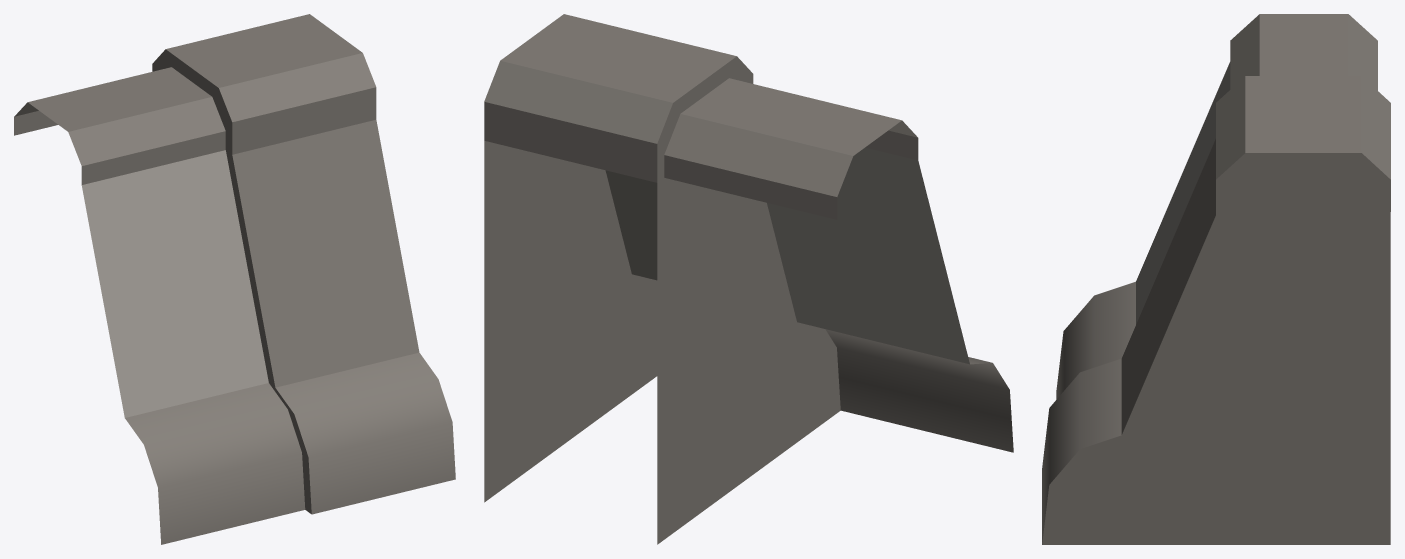
The model's file is Base Wall 01 End.FBX.
The picture shows the model from 3 angles, left to right: view 1: azimuth 30°, elevation 25°; view 2: azimuth 150°, elevation 25°; view 3: azimuth 270°, elevation 25°; orthographic projection. The views are drawn at different scales.
Visible parts, largest first — view 1: Base Wall 01 End; view 2: Base Wall 01 End; view 3: Base Wall 01 End.
Part boxes in pixels (left/top/right/bottom): Base Wall 01 End: left=14, top=14, right=455, bottom=544; Base Wall 01 End: left=484, top=14, right=1013, bottom=544; Base Wall 01 End: left=1042, top=14, right=1390, bottom=544.
Size of the model in its own units: 100 by 119 by 95.83.
Materials: 1 (1 with a texture image).
